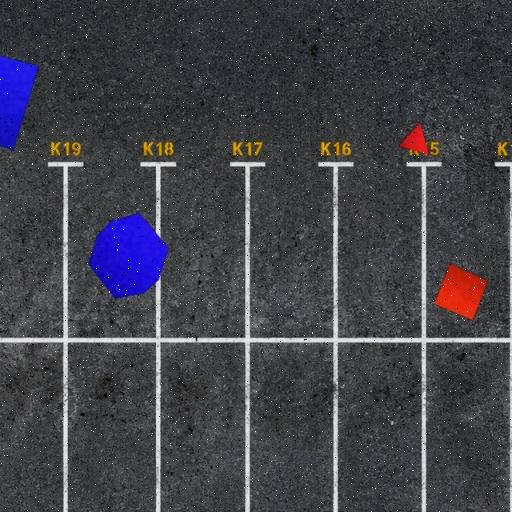BLUE_SQUARE: (0, 44, 40, 151)
RED_SQUARE: (434, 262, 488, 321)
